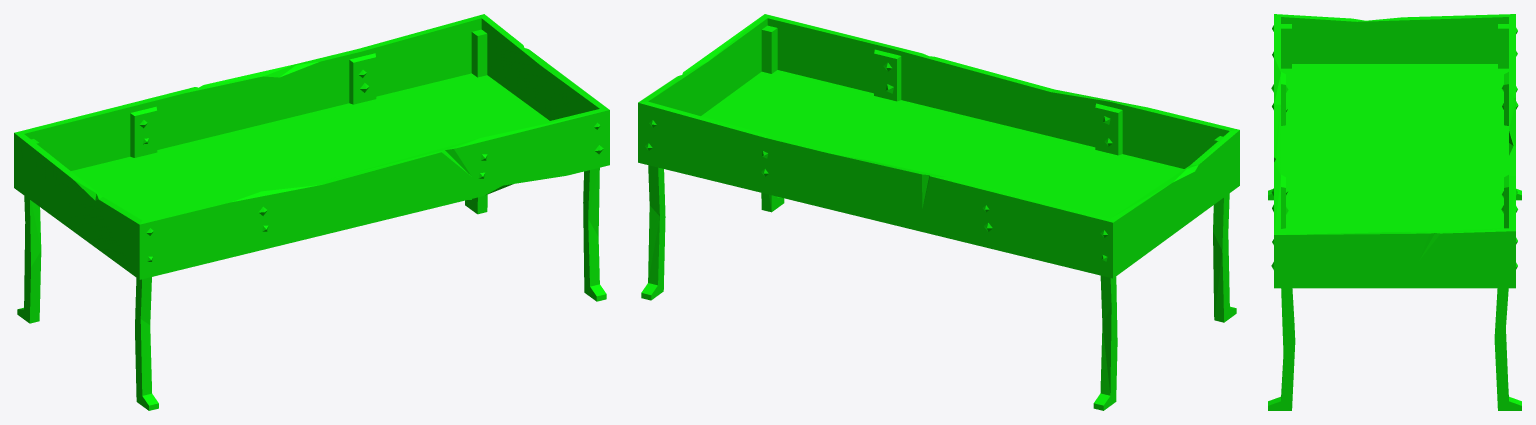
File: SM_Kitchen_Fireplace_Fantasy.fbx
The picture shows the model from 3 angles, left to right: view 1: azimuth 30°, elevation 25°; view 2: azimuth 150°, elevation 25°; view 3: azimuth 270°, elevation 25°; orthographic projection. The views are drawn at different scales.
Parts seen in each view (by area): view 1: kitchen-fireplace-fantasy; view 2: kitchen-fireplace-fantasy; view 3: kitchen-fireplace-fantasy.
Boxes of the visible parts, <box> form: kitchen-fireplace-fantasy: <box>14,14,609,410</box>; kitchen-fireplace-fantasy: <box>638,14,1239,410</box>; kitchen-fireplace-fantasy: <box>1268,14,1521,410</box>.
Size of the model in its own units: 0.9714 by 0.3744 by 0.4713.
